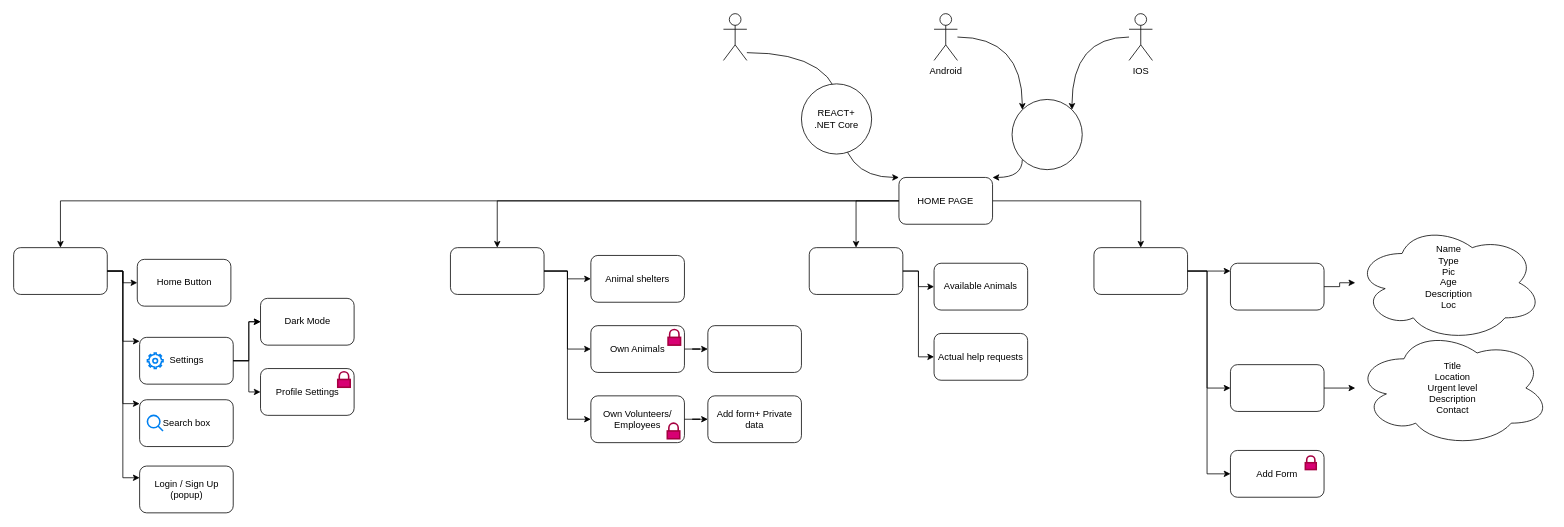
This 1564x527 diagram has some shape labels left out. Each missing label, with the centre of its shape:
Add form+ Private data (medical forms etc): the point at 754,348
Clickable Animal card: the point at 1277,286
Clickable Help request card: the point at 1277,387
List View + filters+ Add form: the point at 1140,270
Nav Bar: the point at 60,270
Page bar: the point at 855,270
REACT NATIVE: the point at 1046,134
Side Bar: the point at 497,270
WEB: the point at 735,36
